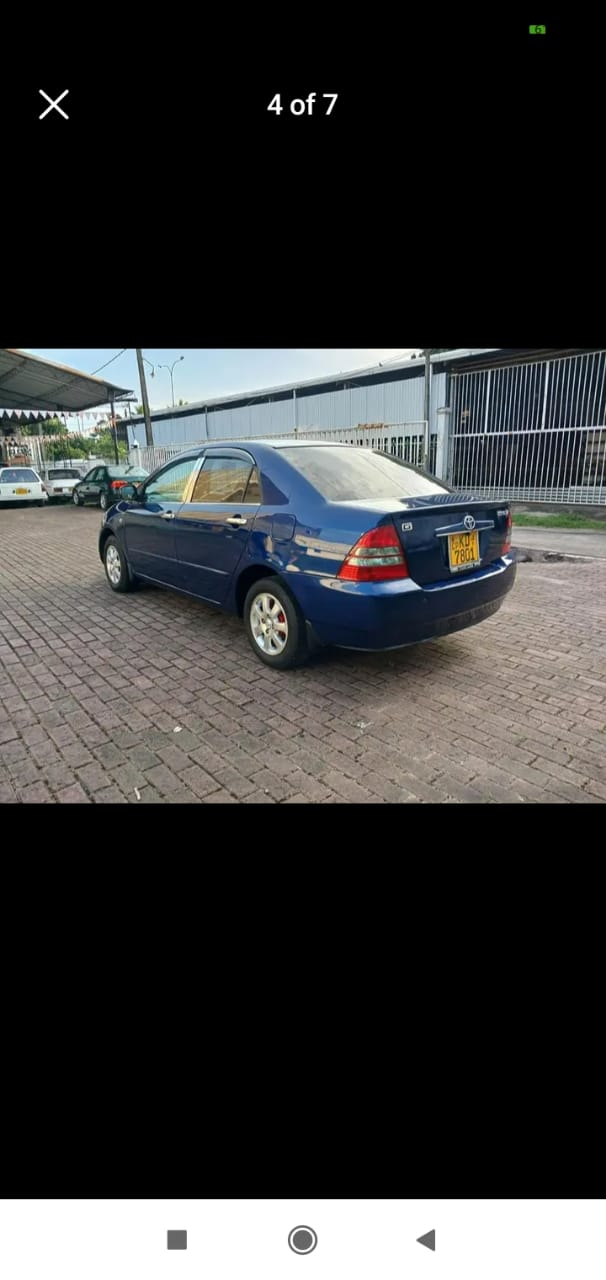number_plate: (441, 537, 487, 568)
